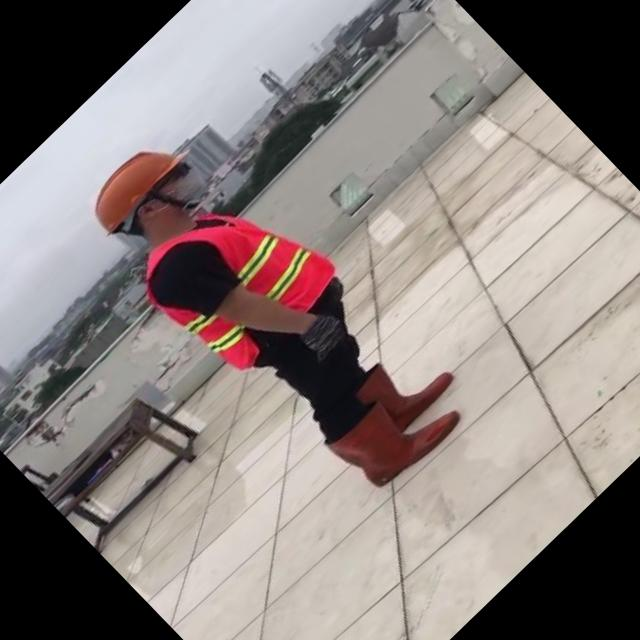hard_hat: (75, 125, 190, 238)
safety_vest: (125, 167, 344, 385)
vehicle: (54, 86, 499, 536)
work_boots: (324, 365, 464, 505), (352, 331, 460, 439)
